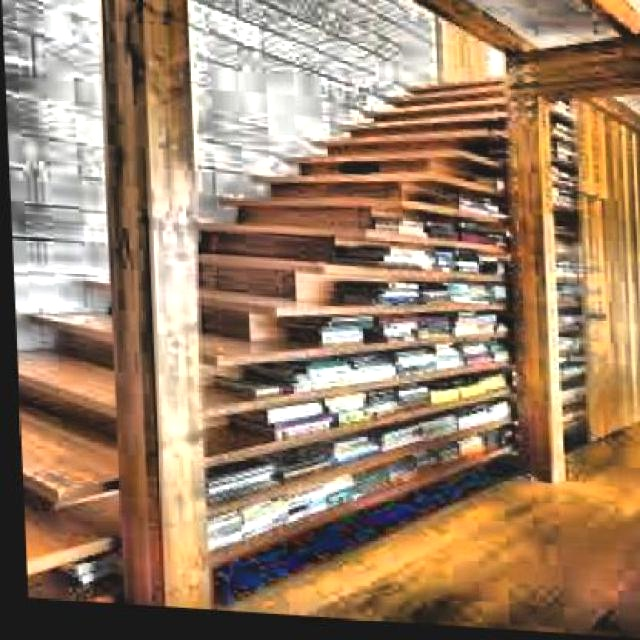stair: (8, 72, 494, 626)
